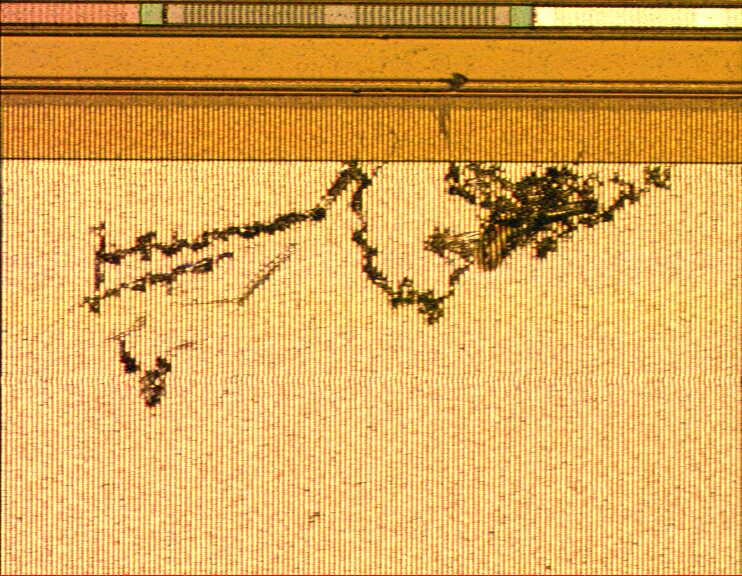SCRATCH: (30, 68, 675, 420)
